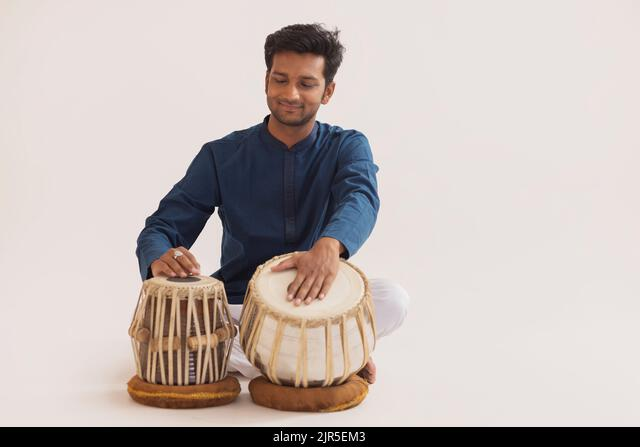tabla: (242, 254, 376, 389), (129, 275, 229, 388)
